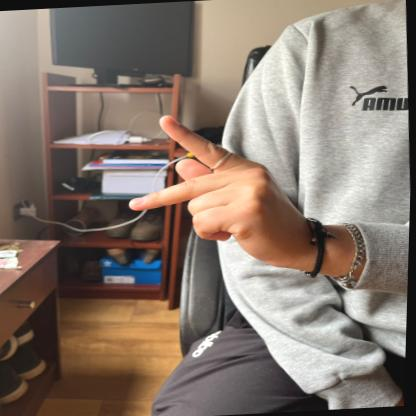K: (119, 106, 292, 281)
